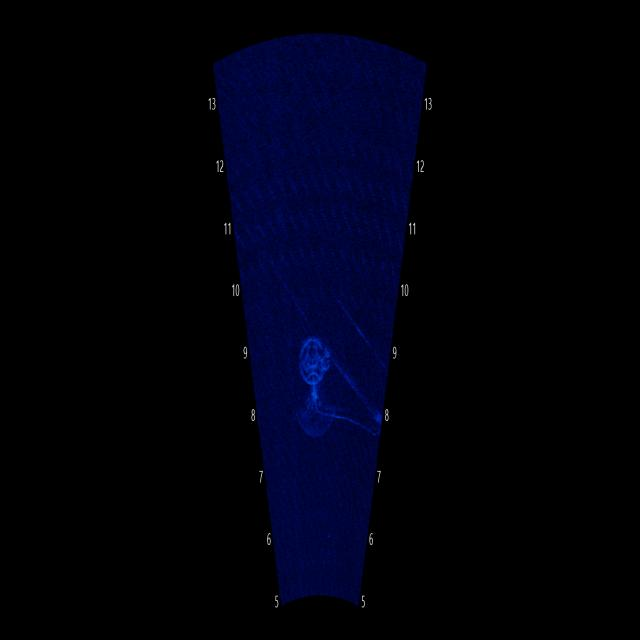circle: (285, 308, 336, 394)
